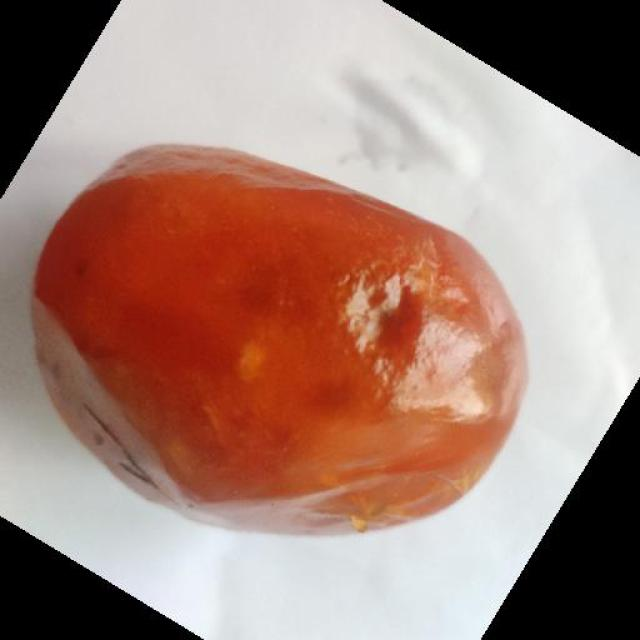Stale_tomato: (49, 117, 546, 535)
